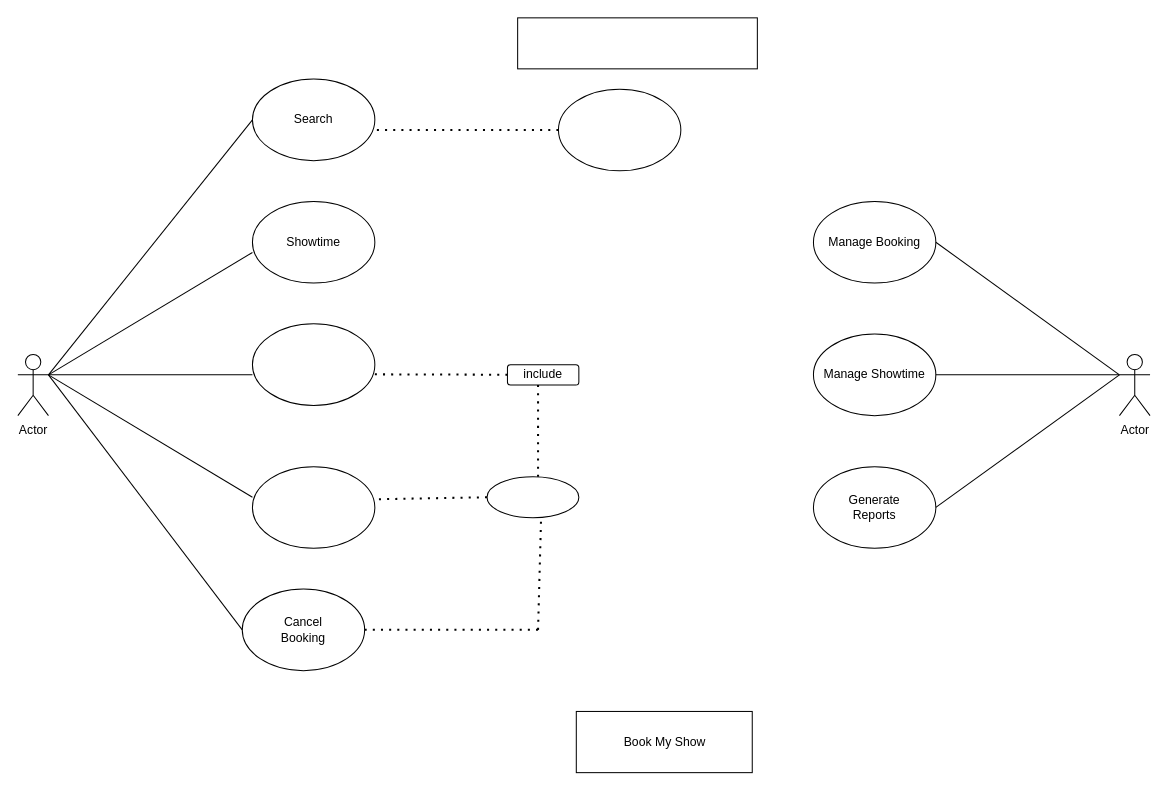
This 1168x791 diagram has some shape labels left out. The centre of each missing label's shape, as x and y in pixels:
Activity Diagram: (x=637, y=43)
Booking: (x=313, y=364)
FIlter based on language: (x=619, y=129)
login: (x=532, y=497)
Payment: (x=313, y=507)
